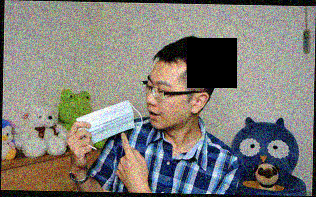without_mask: (145, 73, 191, 131)
